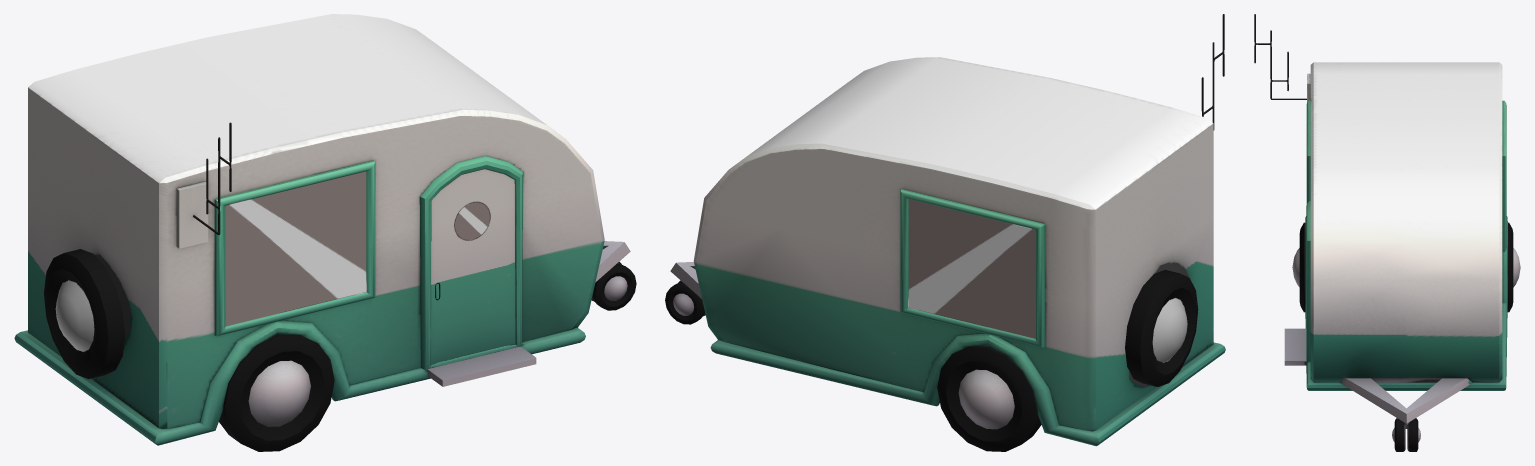
The picture shows the model from 3 angles, left to right: view 1: azimuth 30°, elevation 25°; view 2: azimuth 150°, elevation 25°; view 3: azimuth 270°, elevation 25°; orthographic projection. The views are drawn at different scales.
Visible parts, largest first — view 1: Cube.002; view 2: Cube.002; view 3: Cube.002.
Boxes of the visible parts, x1=… form: Cube.002: x1=14, y1=14, x2=636, y2=451; Cube.002: x1=665, y1=14, x2=1225, y2=451; Cube.002: x1=1254, y1=14, x2=1520, y2=451.
Bounding box in the file's own units: 327 × 208 × 187.
Materials: 1 (1 with a texture image).
